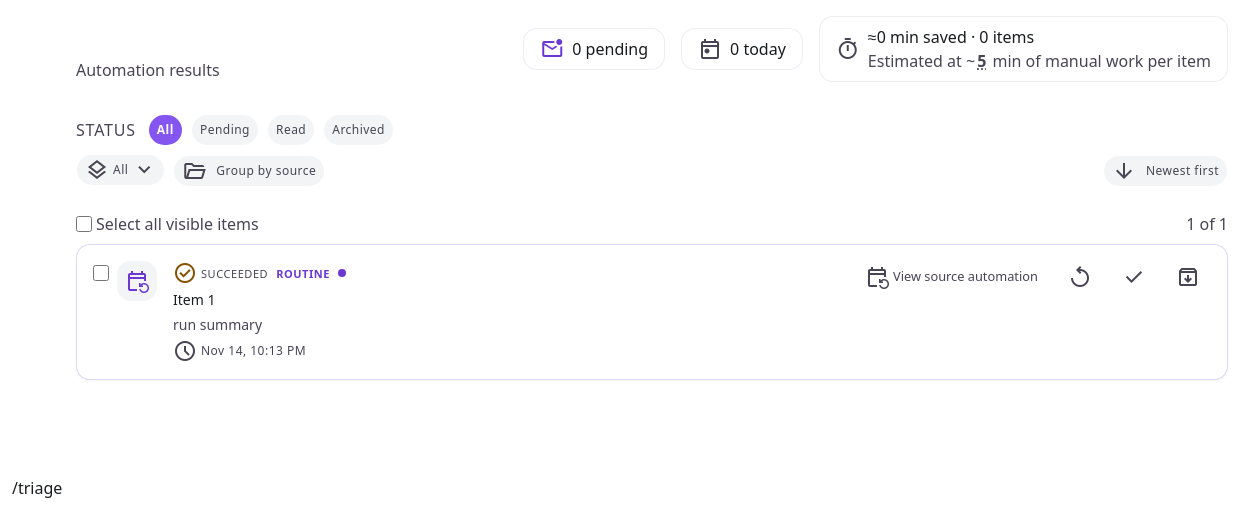
Test: Triage — cross links (IA T2) › shows「View source automation」on a routine item and navigates to /tasks with openRoutineId
What coordinates should you click on to do the following:
click the button with aria-label "Open the automation that produced this item"
I would click on:
 (951, 277)
Its box is [854,263,1049,291].
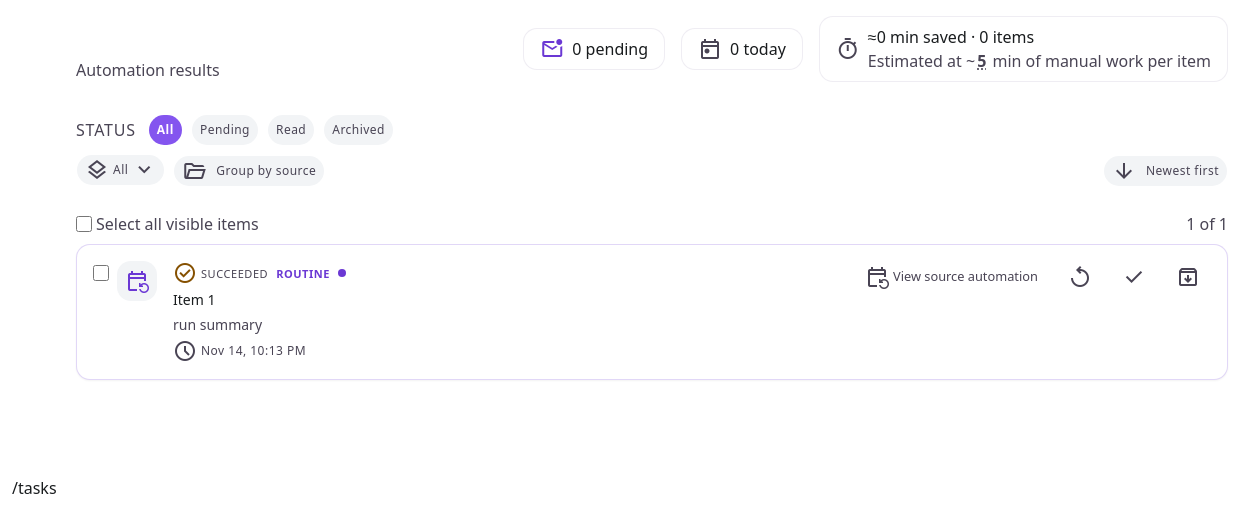
Check: the text with test id "location" reads "/tasks", box [12,477,57,499]
